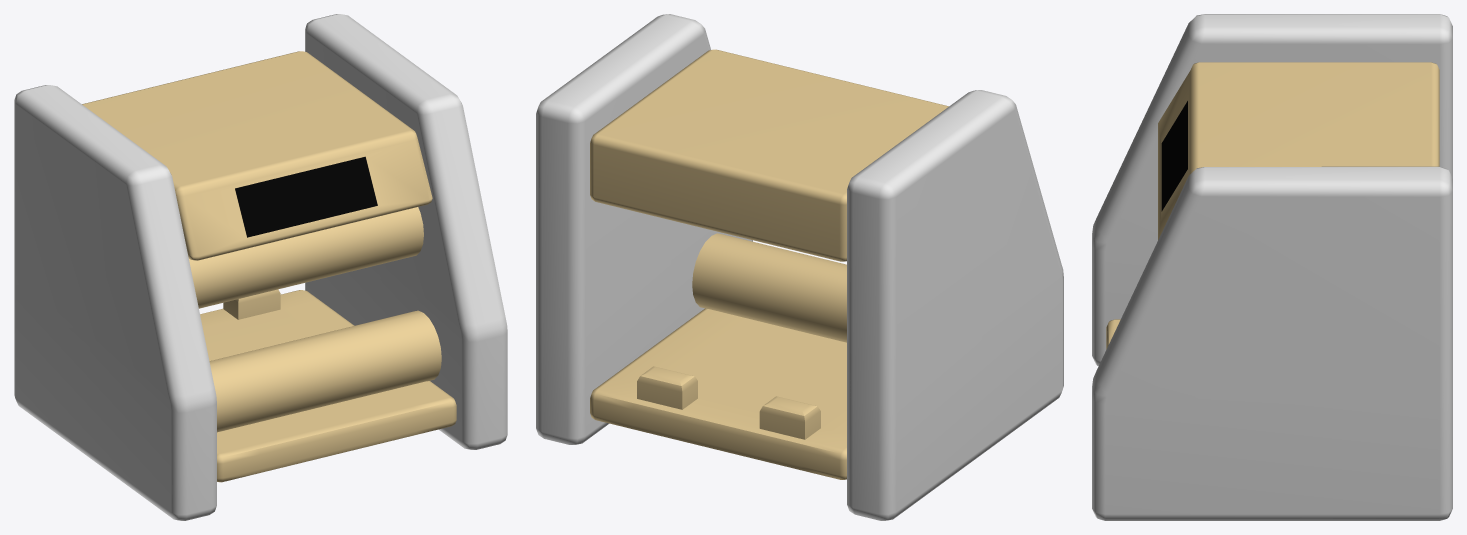
The model's file is GoldSpawner.fbx.
3 renders of one model, left to right at view 1: azimuth 30°, elevation 25°; view 2: azimuth 150°, elevation 25°; view 3: azimuth 270°, elevation 25°, orthographic. The views are drawn at different scales.
Visible parts, largest first — view 1: GoldSpawner; view 2: GoldSpawner; view 3: GoldSpawner.
Part boxes in pixels (x1,y1,x2,y2): GoldSpawner: [14, 14, 507, 520]; GoldSpawner: [536, 14, 1063, 520]; GoldSpawner: [1092, 14, 1452, 520].
Size of the model in its own units: 1.16 by 1.04 by 1.
